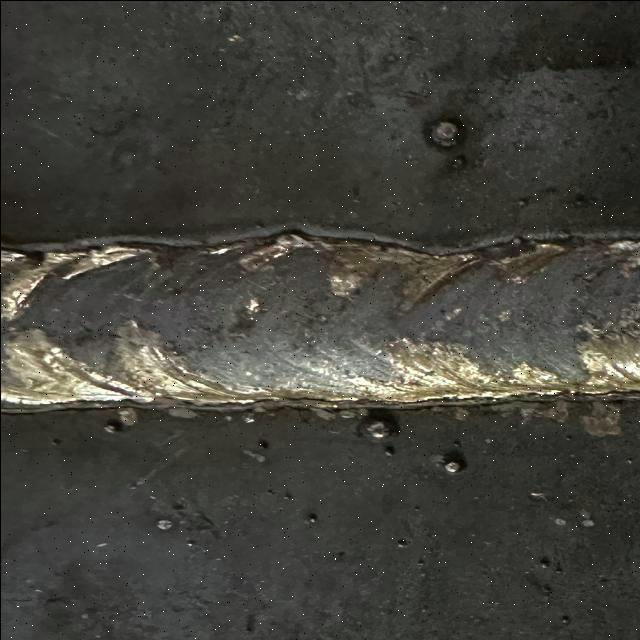Excess Reinforcement: (0, 243, 155, 278), (253, 232, 313, 250)
Spatters: (422, 118, 463, 151), (357, 416, 398, 441), (102, 406, 137, 432), (442, 458, 465, 474), (103, 420, 121, 432), (155, 519, 172, 529), (383, 445, 395, 456), (538, 558, 550, 568), (528, 491, 545, 498), (257, 439, 268, 449), (560, 615, 570, 624), (307, 512, 317, 521), (282, 491, 292, 499), (397, 539, 407, 546), (542, 586, 550, 594), (52, 438, 62, 444)
